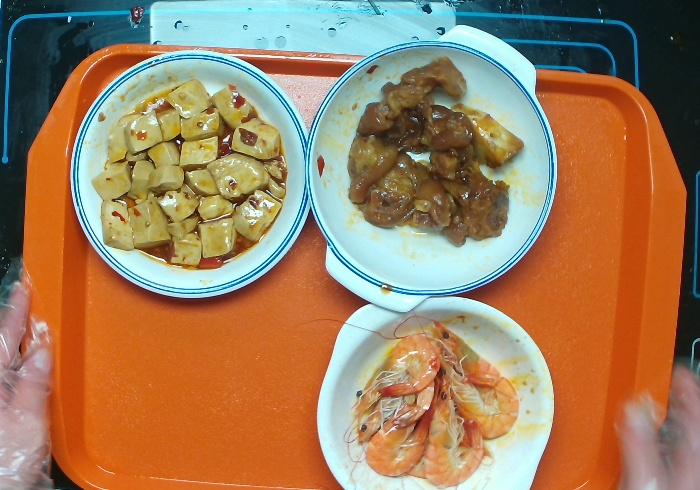HZYJPL-Dai_Er_Bai_Yuan_Wan: (319, 293, 561, 490)
HZYJPL-Lan_Bian_Dai_Er_Wan: (305, 23, 560, 309)
HZYJPL-Lan_Bian_Yuan_Die: (68, 47, 320, 305)
